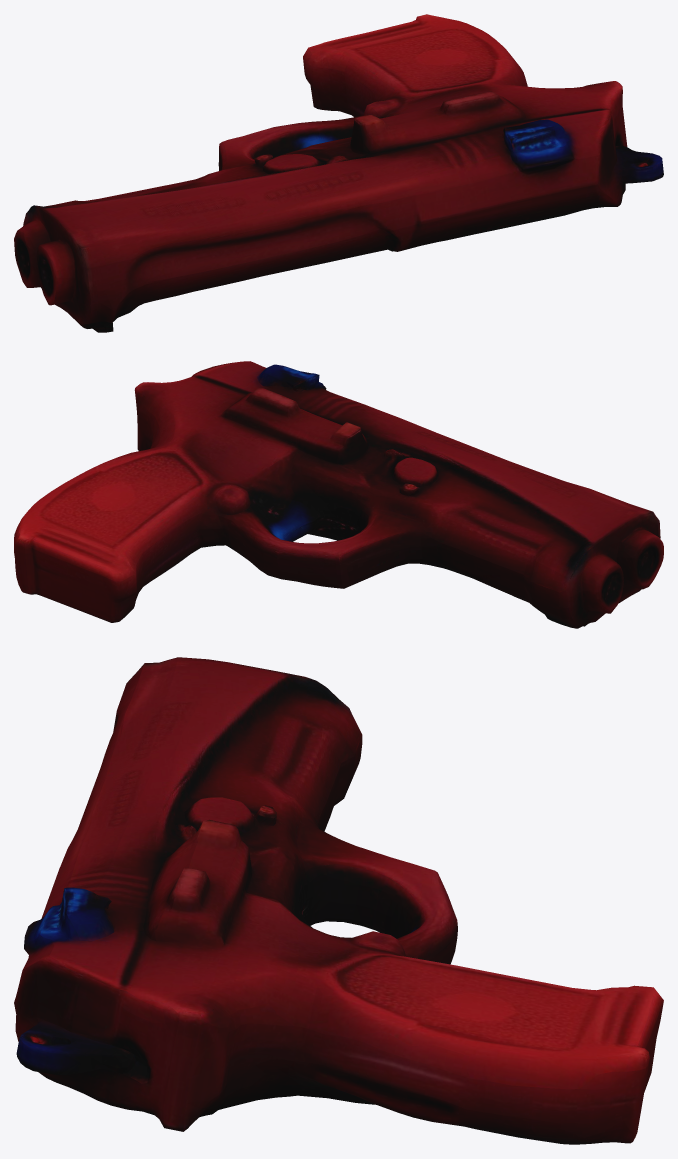
Rendered from obj10_baseline.glb.
3 views of the same model, one above another, from view 1: azimuth 30°, elevation 25°; view 2: azimuth 150°, elevation 25°; view 3: azimuth 270°, elevation 25° (orthographic). The views are drawn at different scales.
Visible parts, largest first — view 1: n1; view 2: n1; view 3: n1.
Part boxes in pixels (x1,y1,x2,y2): n1: [14, 14, 663, 332]; n1: [14, 361, 663, 628]; n1: [14, 657, 663, 1144].
Size of the model in its own units: 0.8991 by 0.2237 by 0.632.
Materials: 1 (1 with a texture image).
